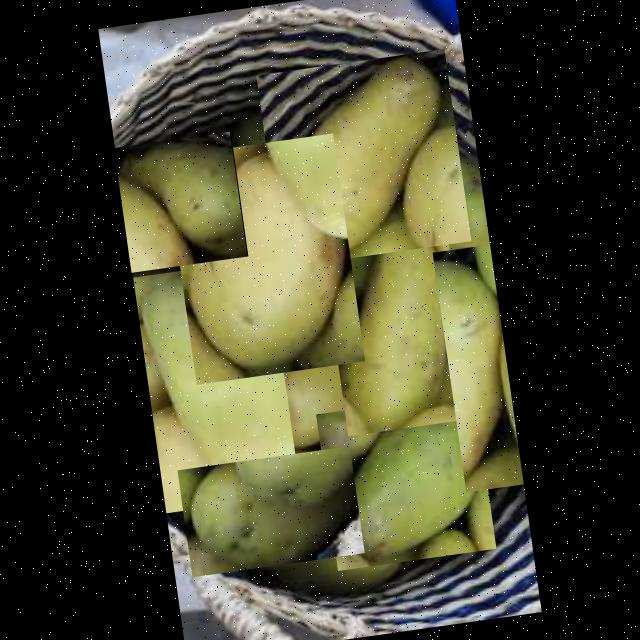Defected potato: (165, 132, 365, 384), (256, 48, 472, 267), (133, 258, 301, 512), (321, 220, 474, 436), (316, 391, 496, 570), (178, 445, 364, 576), (432, 244, 524, 492), (114, 130, 248, 272), (270, 496, 418, 612)
